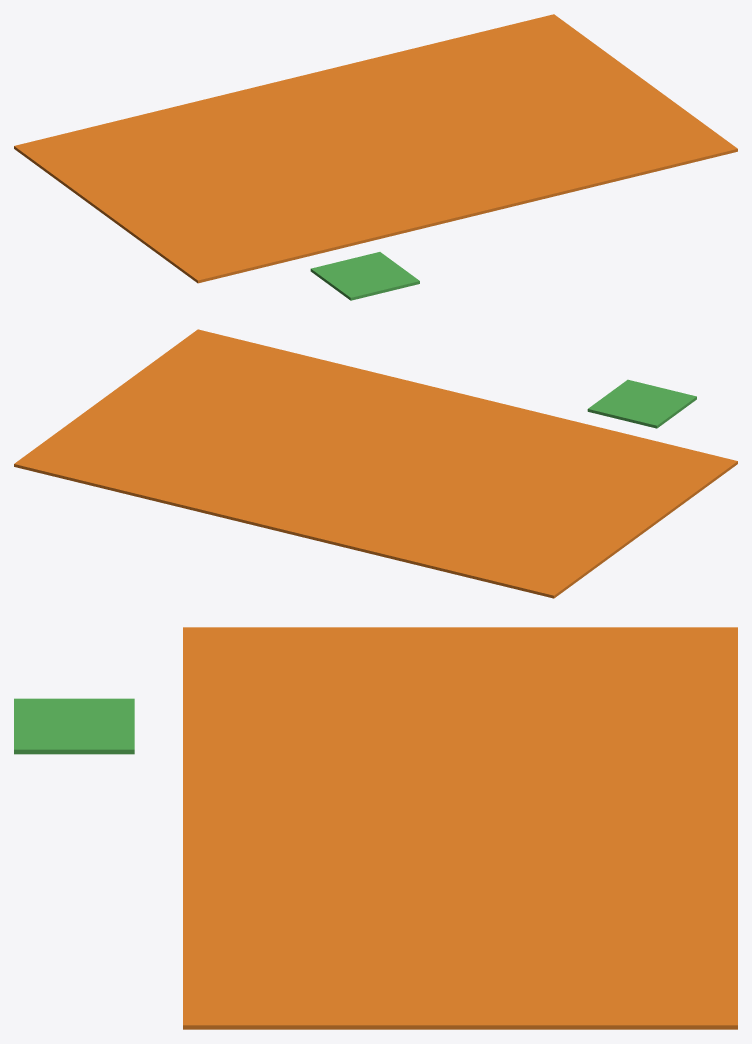
File: ventilation_system_pressure.glb
3 views of the same model, one above another, from view 1: azimuth 30°, elevation 25°; view 2: azimuth 150°, elevation 25°; view 3: azimuth 270°, elevation 25° (orthographic). The views are drawn at different scales.
Parts seen in each view (by area): view 1: pressure__front, pressure__back; view 2: pressure__front, pressure__back; view 3: pressure__front, pressure__back.
Boxes of the visible parts, box(x1,y1,x2,y2) form: pressure__front: box(106, 81, 737, 300); pressure__back: box(14, 14, 645, 215); pressure__front: box(106, 329, 737, 530); pressure__back: box(14, 396, 645, 598); pressure__front: box(14, 627, 460, 1029); pressure__back: box(460, 627, 737, 1029).
Bounding box in the file's own units: 3.9 × 0.02 × 3.
